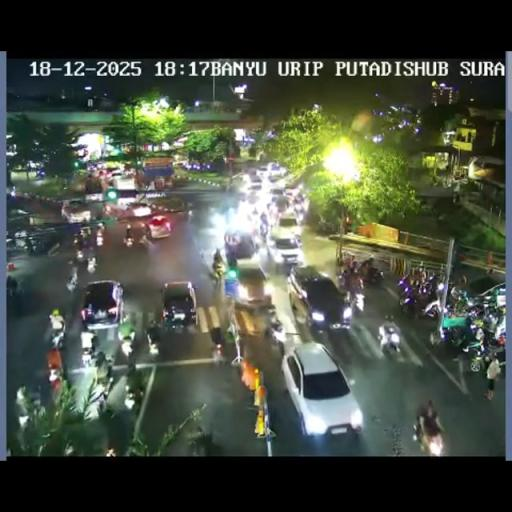Car: (280, 344, 362, 438), (286, 265, 352, 331), (79, 280, 125, 330), (230, 260, 272, 311), (158, 280, 198, 330), (224, 229, 257, 258), (472, 280, 506, 308), (106, 173, 140, 201), (273, 214, 302, 244), (111, 202, 153, 222), (61, 200, 92, 223), (148, 196, 186, 214), (145, 214, 173, 238), (242, 190, 264, 210), (266, 164, 286, 178), (268, 187, 286, 202), (246, 171, 262, 186)
Motorcycle: (25, 352, 64, 408), (436, 316, 475, 355), (400, 281, 439, 318), (414, 412, 445, 454), (477, 322, 505, 361), (378, 318, 400, 358), (263, 308, 285, 347), (79, 330, 97, 366), (278, 247, 302, 273), (6, 282, 23, 316), (358, 264, 384, 286), (346, 289, 366, 316), (48, 322, 66, 352), (125, 336, 140, 370), (91, 388, 110, 414), (463, 302, 486, 322), (123, 385, 138, 412), (449, 284, 468, 305), (80, 242, 97, 265), (317, 216, 338, 234), (212, 260, 226, 285), (293, 198, 307, 222), (212, 342, 226, 366), (102, 360, 114, 386), (66, 268, 78, 293), (338, 268, 352, 289), (138, 230, 154, 248), (146, 335, 160, 355), (24, 236, 38, 255), (266, 200, 278, 222), (72, 234, 84, 254), (94, 224, 104, 245), (124, 229, 134, 246), (259, 220, 268, 237), (226, 181, 234, 197)
